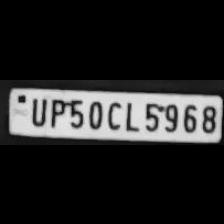0: (85, 97, 103, 129)
5: (141, 97, 161, 130), (64, 96, 84, 128)
6: (179, 98, 197, 132)
8: (198, 100, 216, 134)
9: (160, 98, 178, 132)
C: (104, 96, 122, 130)
L: (121, 97, 139, 130)
P: (47, 96, 65, 126)
U: (27, 95, 47, 125)
